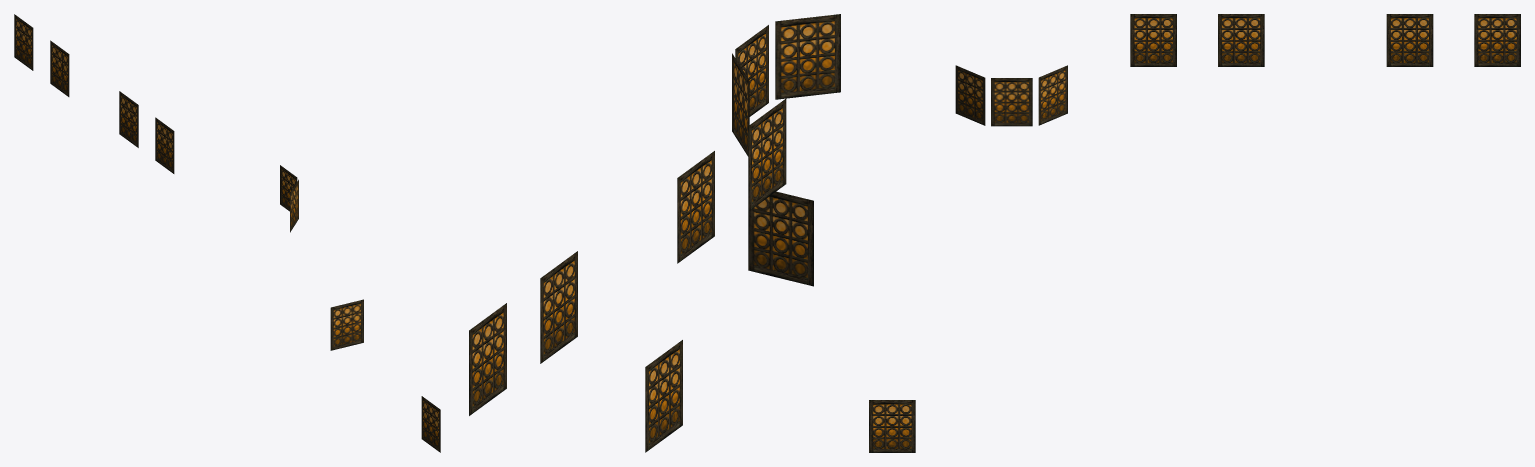
The model's file is LAKETOWN_EXTERIOR_PS_LT_WINDOWS373635.fbx.
3 renders of one model, left to right at view 1: azimuth 30°, elevation 25°; view 2: azimuth 150°, elevation 25°; view 3: azimuth 270°, elevation 25°, orthographic. The views are drawn at different scales.
Visible parts, largest first — view 1: LAKETOWN_EXTERIOR_PS_LT_WINDOWS373635; view 2: LAKETOWN_EXTERIOR_PS_LT_WINDOWS373635; view 3: LAKETOWN_EXTERIOR_PS_LT_WINDOWS373635.
Boxes of the visible parts, x1=… form: LAKETOWN_EXTERIOR_PS_LT_WINDOWS373635: x1=14, y1=14, x2=440, y2=452; LAKETOWN_EXTERIOR_PS_LT_WINDOWS373635: x1=469, y1=14, x2=840, y2=452; LAKETOWN_EXTERIOR_PS_LT_WINDOWS373635: x1=869, y1=14, x2=1520, y2=452.
Bounding box in the file's own units: 56278 × 95389 × 163686.
1 material, 1 textured.
